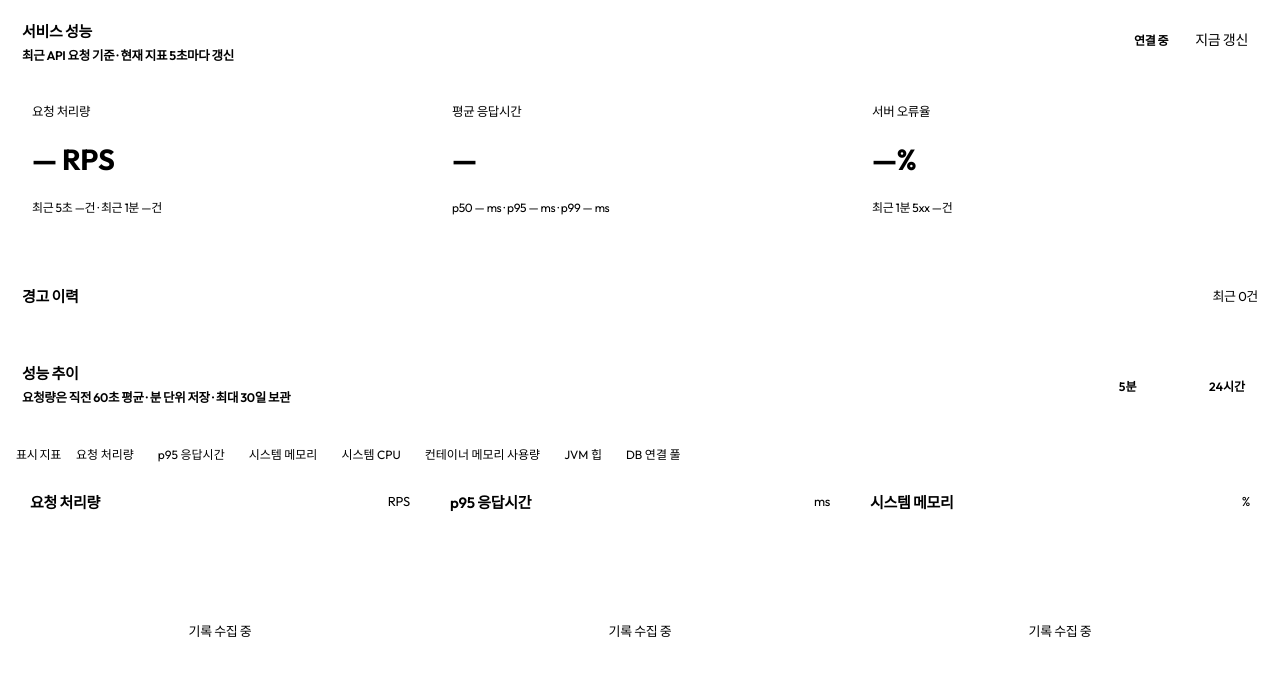
PerformancePanel › draws container memory usage history even when cgroup has no memory limit
This screenshot has width=1280, height=689.
Step 1. Click the button "컨테이너 메모리 사용량" → (482, 453), box [416, 440, 549, 467]
(page scrolled)
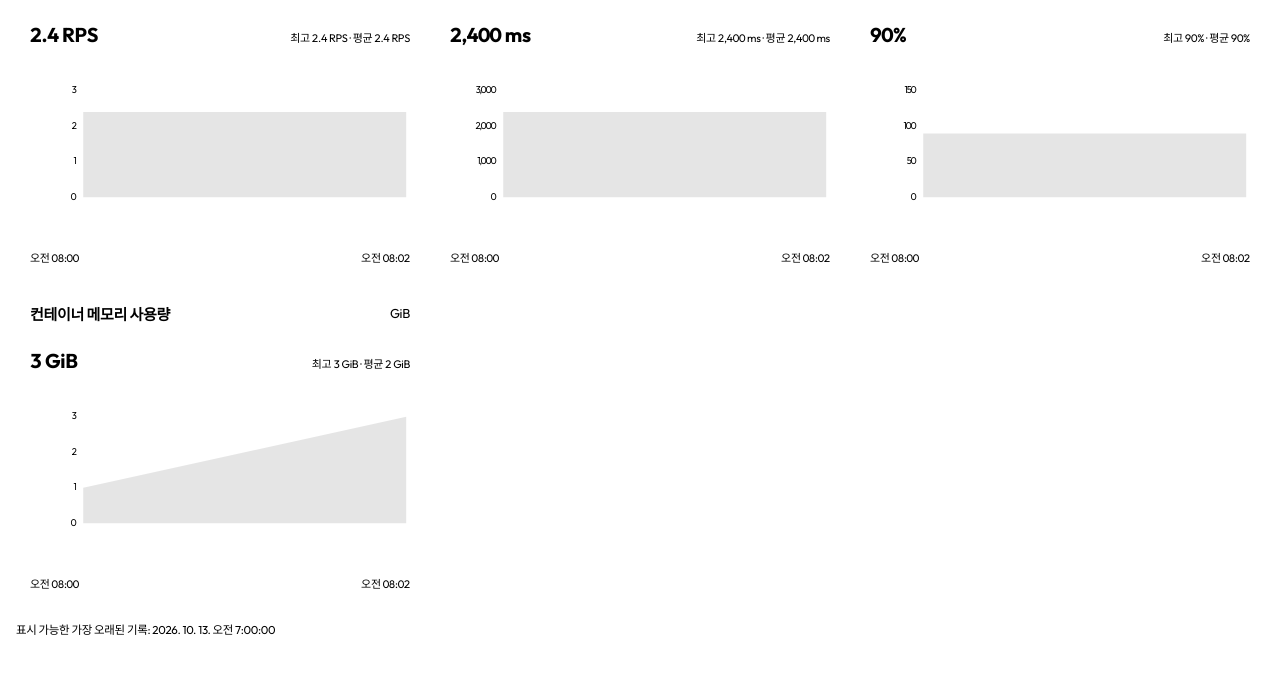
Result: the text "3 GiB" is shown at [30, 348, 78, 373]
